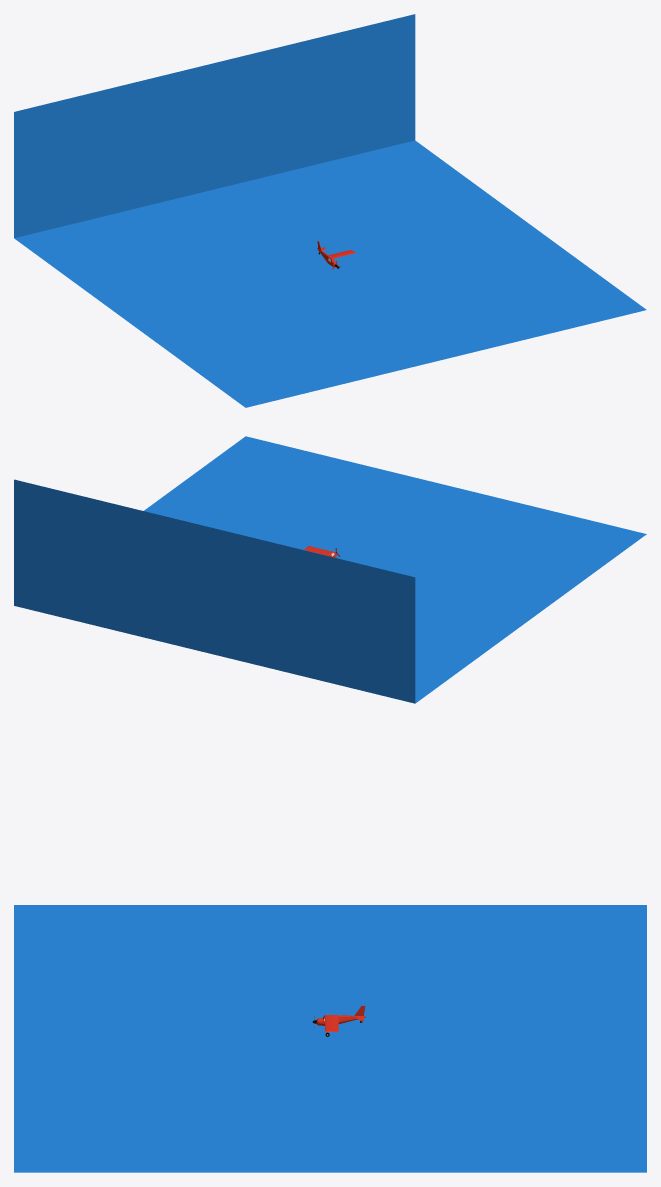
The model's file is aeroplane.glb.
3 renders of one model, top to bottom at view 1: azimuth 30°, elevation 25°; view 2: azimuth 150°, elevation 25°; view 3: azimuth 270°, elevation 25°, orthographic. The views are drawn at different scales.
Visible parts, largest first — view 1: BG; view 2: BG; view 3: BG.
Boxes of the visible parts, x1,y1,x2,y2 form: BG: (14, 14, 646, 407); BG: (14, 436, 646, 703); BG: (14, 905, 646, 1172).
Bounding box in the file's own units: 94.52 × 28.44 × 94.52.
